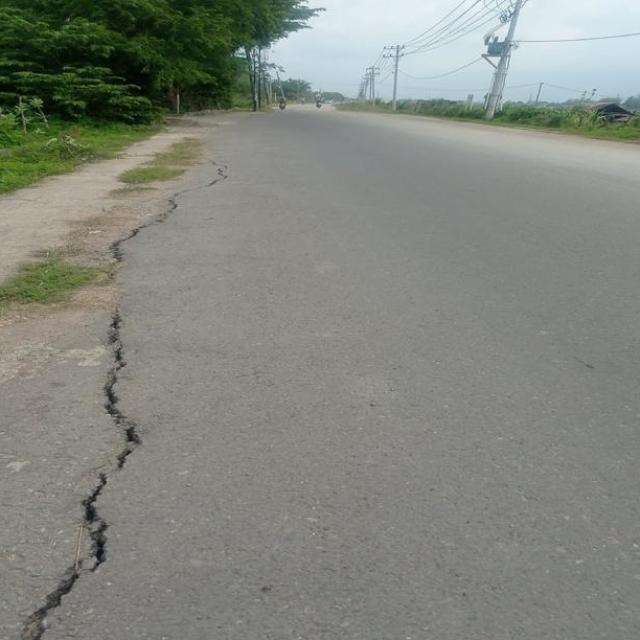Memanjang: (2, 165, 241, 640)
